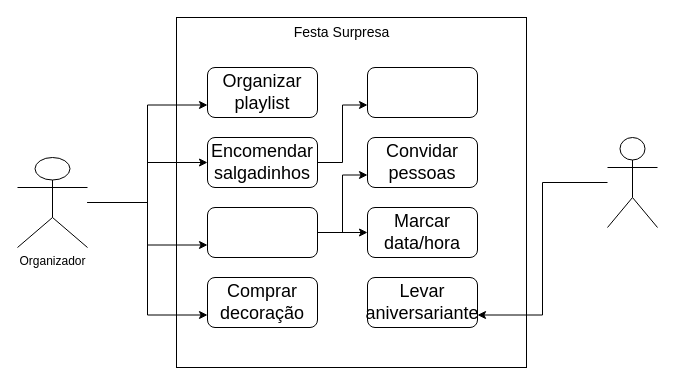
This 675x385 diagram has some shape labels left out. The box of each missing label's shape, as (x1, y1, x2, y2) in pixels:
Comprar bolo: (366, 66, 478, 118)
Encontrar lugar: (206, 206, 318, 258)
Familiar: (606, 136, 658, 228)
